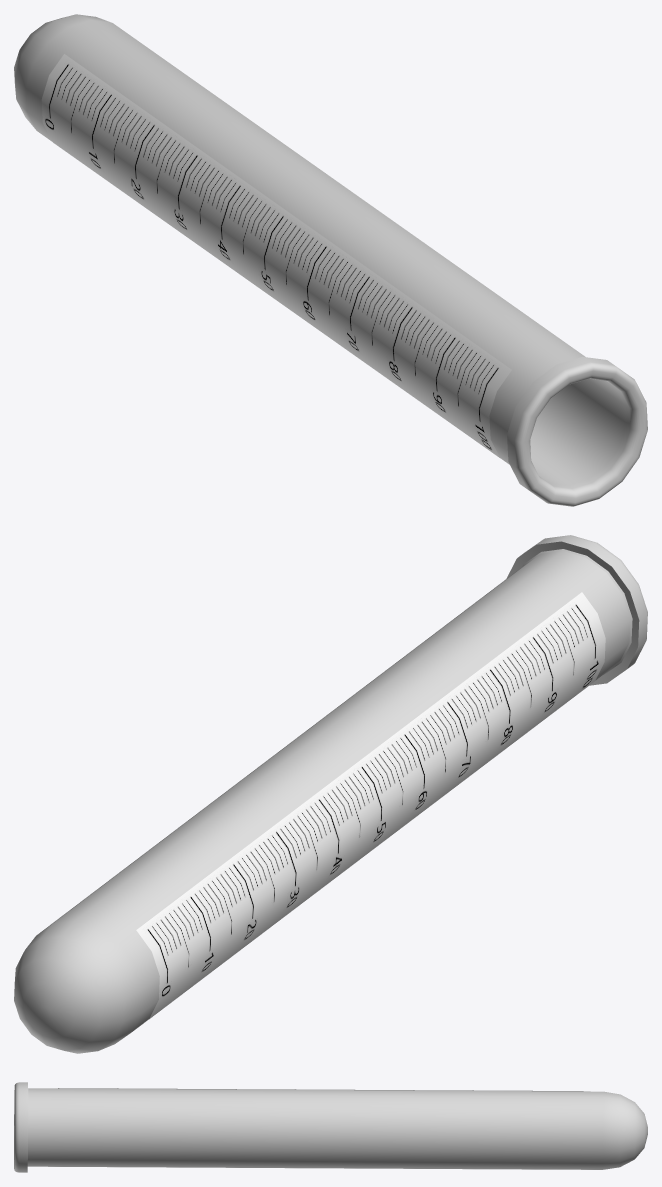
Rendered from LabEquipment_04.fbx.
3 renders of one model, top to bottom at view 1: azimuth 30°, elevation 25°; view 2: azimuth 150°, elevation 25°; view 3: azimuth 270°, elevation 25°, orthographic. The views are drawn at different scales.
Visible parts, largest first — view 1: LabEquipment_04; view 2: LabEquipment_04; view 3: LabEquipment_04.
Boxes of the visible parts, x1,y1,x2,y2 form: LabEquipment_04: [14, 14, 647, 506]; LabEquipment_04: [14, 535, 647, 1053]; LabEquipment_04: [14, 1082, 647, 1172].
Size of the model in its own units: 2.69 by 2.69 by 18.77.
